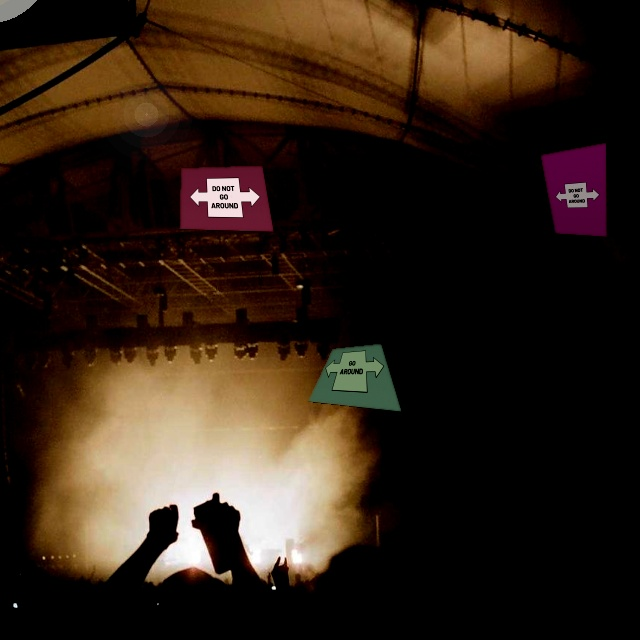DO_NOT_GO_AROUND: (190, 177, 264, 218), (553, 181, 601, 209)
GO_AROUND: (316, 347, 395, 394)
